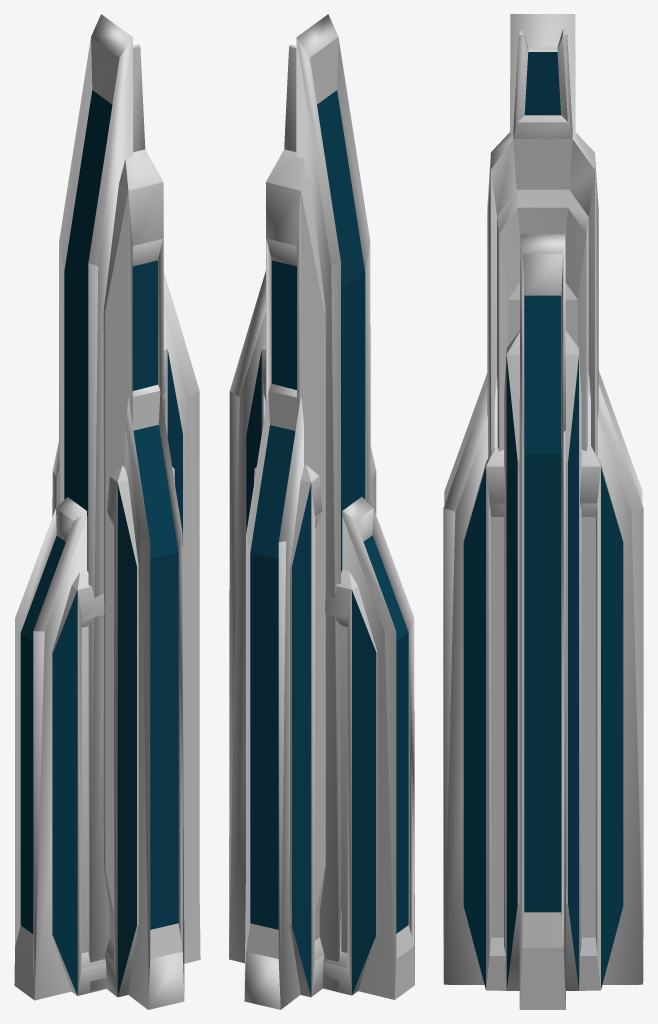
Rendered from SM_Building_06.fbx.
3 renders of one model, left to right at view 1: azimuth 30°, elevation 25°; view 2: azimuth 150°, elevation 25°; view 3: azimuth 270°, elevation 25°, orthographic.
Visible parts, largest first — view 1: SM_Building_06; view 2: SM_Building_06; view 3: SM_Building_06.
Boxes of the visible parts, x1,y1,x2,y2 form: SM_Building_06: [14, 14, 200, 1009]; SM_Building_06: [229, 14, 414, 1009]; SM_Building_06: [443, 14, 643, 1009].
Size of the model in its own units: 631 by 3449 by 650.
